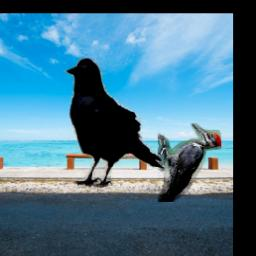Crow: (63, 57, 166, 189)
Woodpecker: (158, 124, 221, 203)
